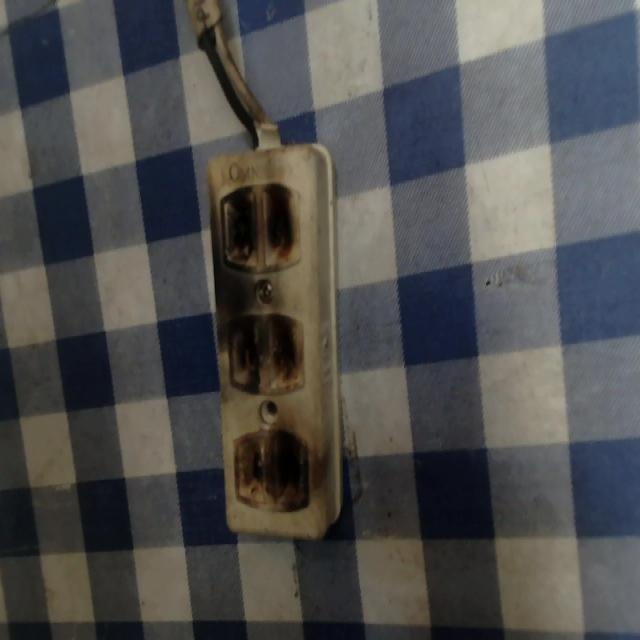-: (215, 179, 302, 276), (229, 424, 314, 511), (223, 311, 305, 392)
